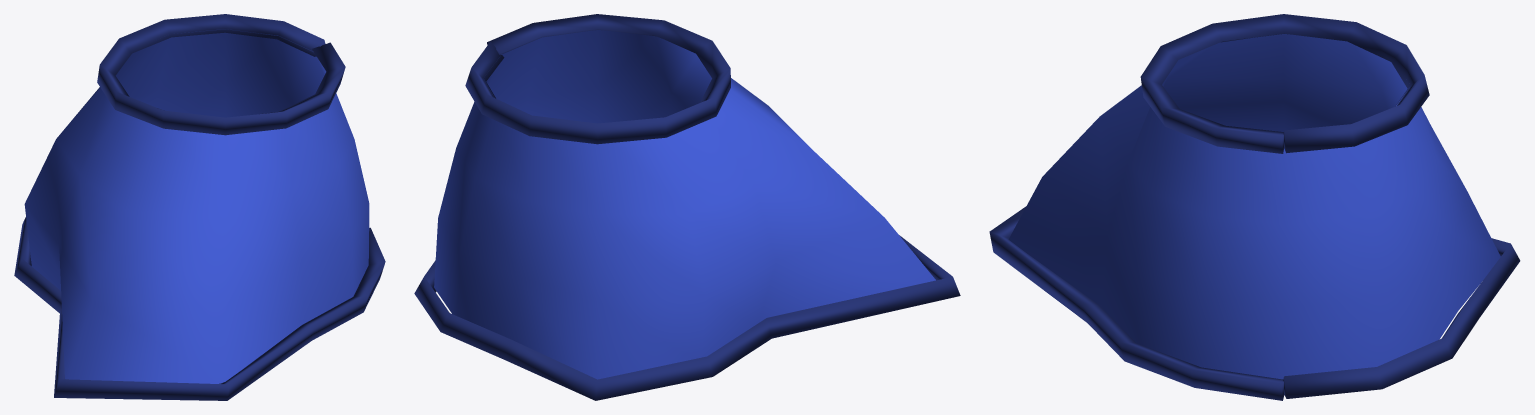
Rendered from shroomite_armor_pauldron.R.glb.
3 renders of one model, left to right at view 1: azimuth 30°, elevation 25°; view 2: azimuth 150°, elevation 25°; view 3: azimuth 270°, elevation 25°, orthographic. The views are drawn at different scales.
Parts seen in each view (by area): view 1: shroomite_armor_pauldron.R; view 2: shroomite_armor_pauldron.R; view 3: shroomite_armor_pauldron.R.
Boxes of the visible parts, <box> form: shroomite_armor_pauldron.R: <box>14,14,385,400</box>; shroomite_armor_pauldron.R: <box>414,14,960,400</box>; shroomite_armor_pauldron.R: <box>989,14,1520,400</box>.
Bounding box in the file's own units: 0.3204 × 0.1646 × 0.3194.
